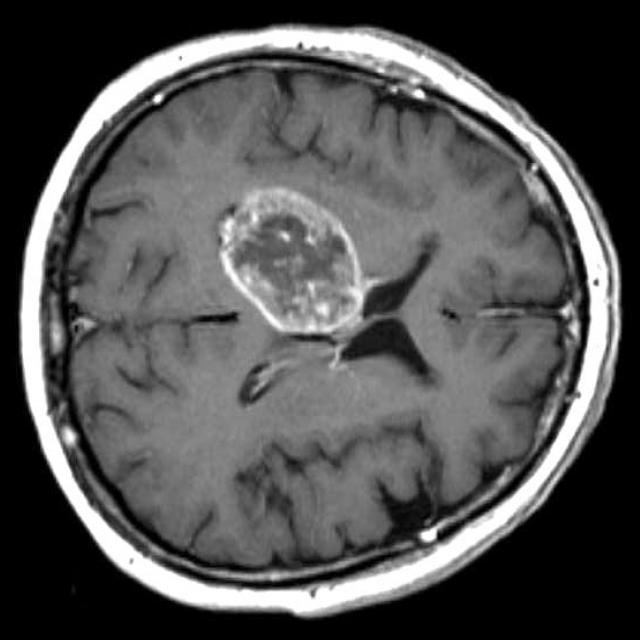tumor: (214, 186, 363, 342)
